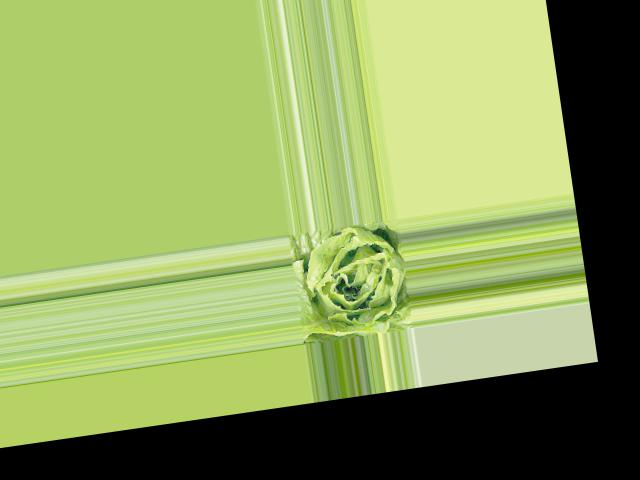lettuce: (287, 220, 412, 343)
